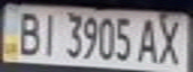0: (97, 14, 118, 61)
3: (60, 10, 84, 58)
5: (115, 14, 136, 62)
9: (78, 11, 100, 61)
A: (136, 15, 163, 64)
B: (12, 8, 42, 56)
I: (36, 9, 60, 57)
X: (154, 16, 187, 65)
